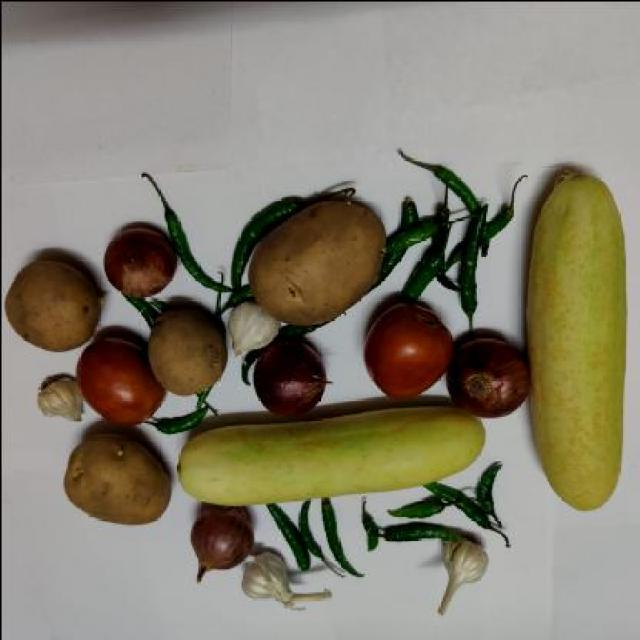Garlic: (232, 552, 337, 611), (429, 534, 491, 626), (217, 295, 278, 360), (28, 374, 86, 426)
Green Chili: (428, 160, 498, 312), (263, 503, 362, 580), (382, 486, 509, 539), (149, 406, 205, 434), (358, 492, 380, 558)
Onion: (448, 328, 534, 420), (251, 336, 329, 422), (98, 223, 177, 299), (186, 505, 254, 586)
Potato: (254, 186, 389, 325), (52, 435, 174, 531), (0, 246, 98, 352)
Tomato: (72, 335, 160, 431)
cucumber: (525, 160, 632, 517), (177, 402, 494, 506)
